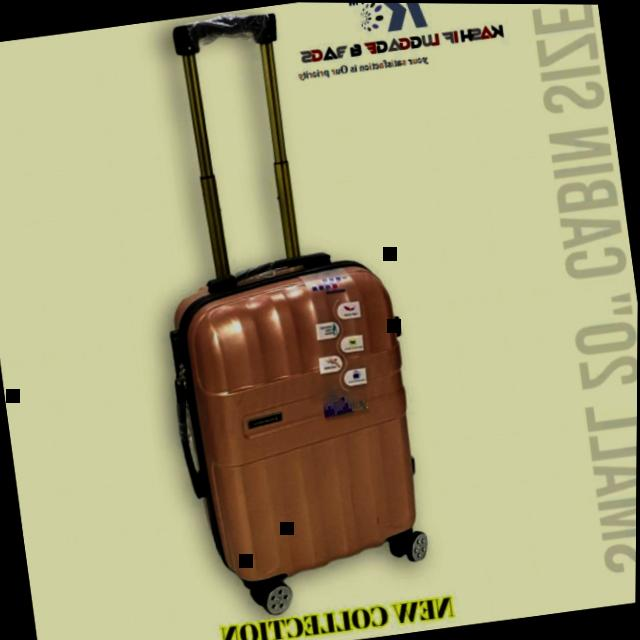luggage: (150, 233, 441, 603)
